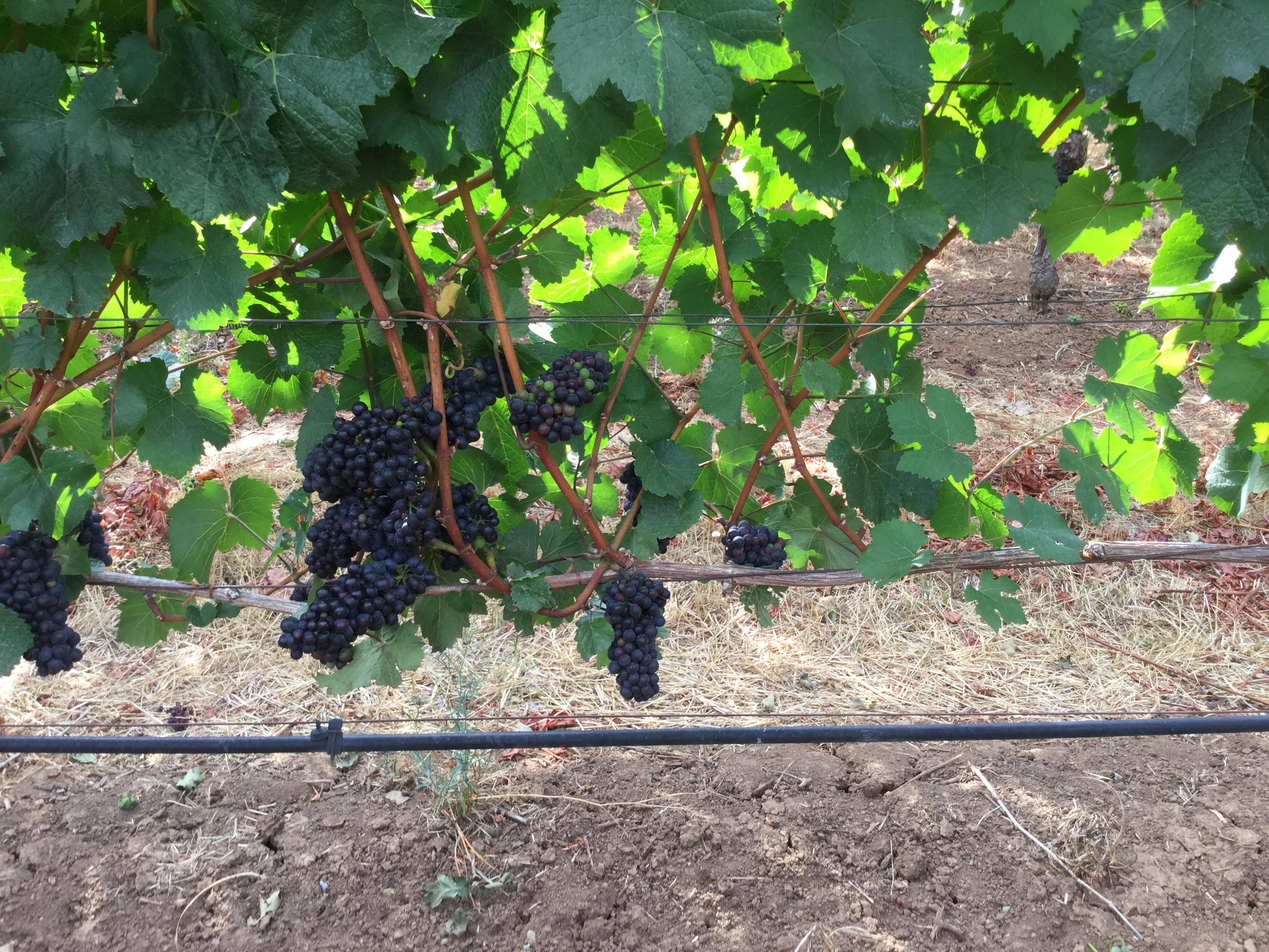leaf: (200, 0, 398, 192), (104, 22, 288, 220), (549, 0, 780, 144), (0, 46, 150, 245), (1080, 0, 1268, 141), (782, 0, 931, 135), (415, 0, 535, 153), (925, 120, 1057, 243), (1175, 80, 1268, 234), (169, 476, 278, 581), (138, 224, 249, 327), (136, 361, 231, 476), (1035, 169, 1150, 263), (833, 177, 946, 272), (758, 84, 851, 198), (1086, 331, 1183, 439), (361, 82, 462, 175), (353, 0, 465, 76), (887, 385, 976, 480), (0, 449, 98, 534), (1096, 426, 1199, 504), (316, 622, 425, 694), (1058, 420, 1129, 523), (227, 340, 311, 423), (24, 240, 114, 315), (781, 219, 854, 303), (1003, 494, 1083, 563), (1002, 0, 1088, 62), (930, 480, 1008, 547), (856, 519, 931, 586), (637, 314, 713, 374), (41, 389, 108, 454), (413, 592, 485, 652), (479, 401, 528, 488), (115, 588, 188, 646), (1206, 444, 1262, 516), (964, 570, 1026, 632), (631, 440, 697, 497), (699, 348, 747, 425), (295, 384, 336, 467), (526, 229, 586, 285), (638, 488, 703, 537), (8, 323, 61, 369), (0, 605, 33, 676), (507, 563, 553, 612), (575, 612, 614, 668), (800, 358, 853, 399), (5, 0, 75, 25), (526, 521, 535, 526), (430, 598, 441, 601), (1235, 427, 1237, 438), (1049, 170, 1052, 177), (535, 51, 540, 55), (1009, 229, 1012, 233), (0, 174, 2, 177), (557, 51, 558, 55), (997, 627, 998, 630), (96, 301, 99, 302), (0, 176, 2, 177), (852, 196, 853, 197), (521, 63, 522, 64), (415, 665, 416, 666), (932, 169, 932, 170), (526, 37, 526, 38)
